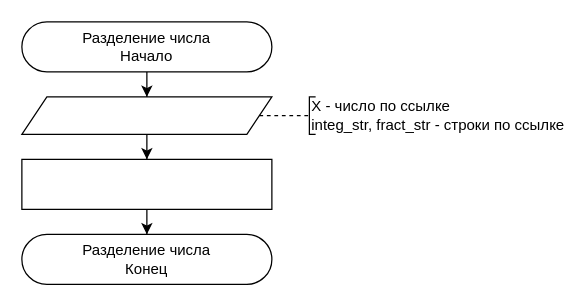
Some shapes in this 586 by 306 pixel diagram are drawn without their labels. The centre of each missing label's shape, as x and y in pixels:
integ_str = целая чать X fract_str = дробная часть X: (x=146, y=183)
X, integ_str, fract_str: (x=146, y=115)
